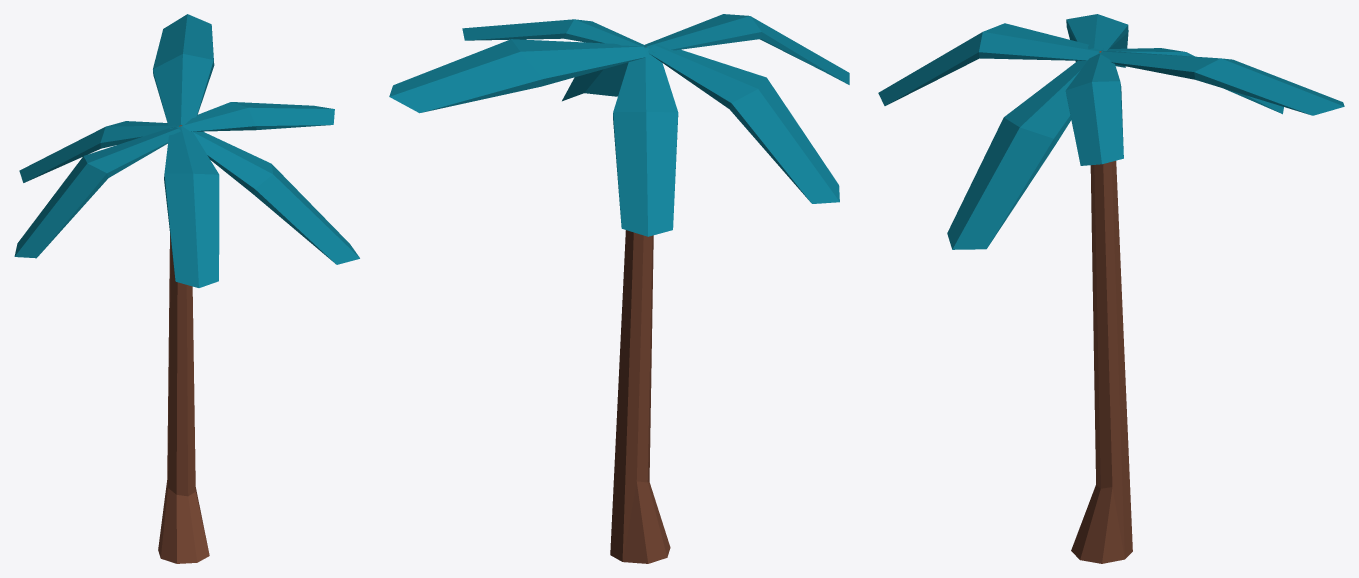
The model's file is Tree_39_summer_blue_vc.fbx.
The picture shows the model from 3 angles, left to right: view 1: azimuth 30°, elevation 25°; view 2: azimuth 150°, elevation 25°; view 3: azimuth 270°, elevation 25°; orthographic projection. The views are drawn at different scales.
Parts seen in each view (by area): view 1: Tree_39_summer_blue_vc; view 2: Tree_39_summer_blue_vc; view 3: Tree_39_summer_blue_vc.
Boxes of the visible parts, box(x1,y1,x2,y2) form: Tree_39_summer_blue_vc: box(14, 14, 359, 563); Tree_39_summer_blue_vc: box(389, 14, 849, 563); Tree_39_summer_blue_vc: box(878, 14, 1344, 563).
Size of the model in its own units: 152 by 204 by 166.
